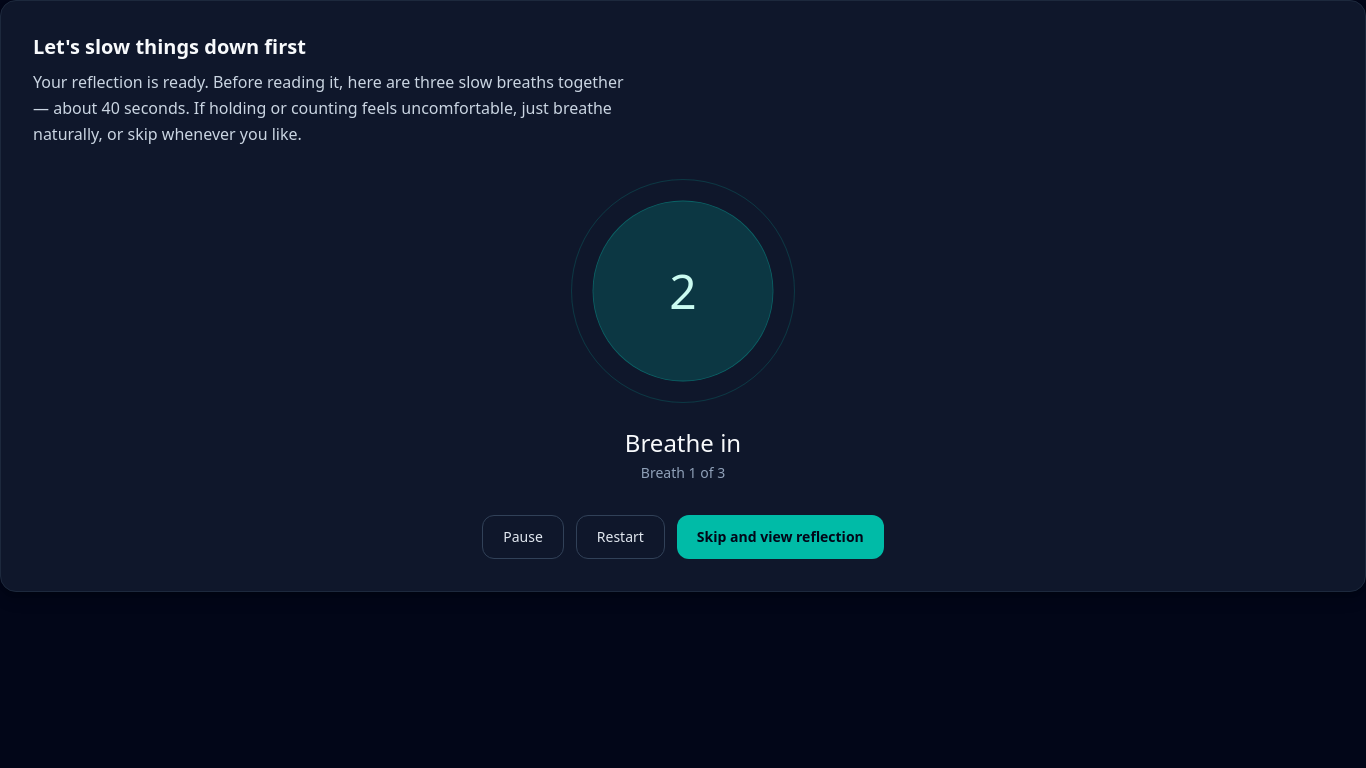
BreathingPacerGate › pauses without progressing, then resumes
The image size is (1366, 768).
Later steps or results of the test are not shown.
Click the button "Pause" at x=523, y=537, box [482,515,564,559]
Wait 60000 ms
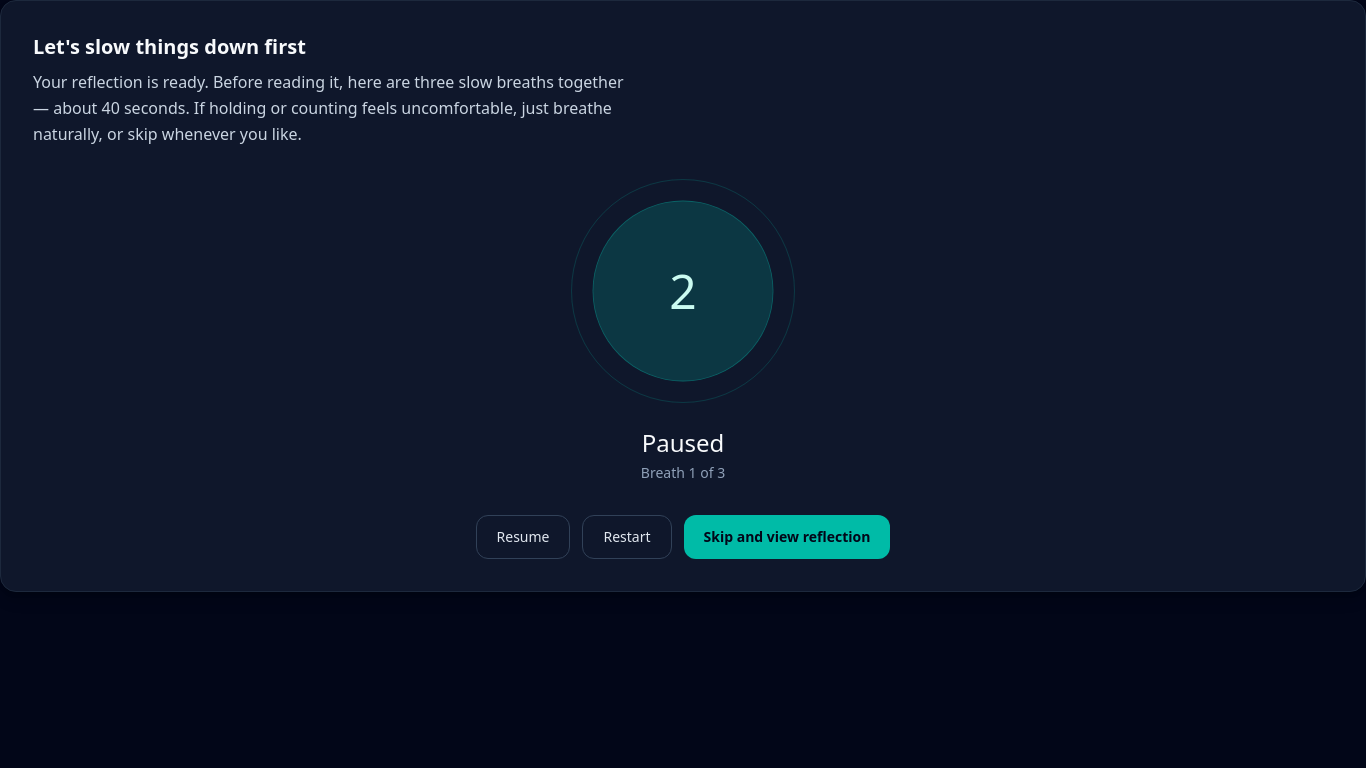
Expected: the text "Paused" is shown, [641,427,725,459]
